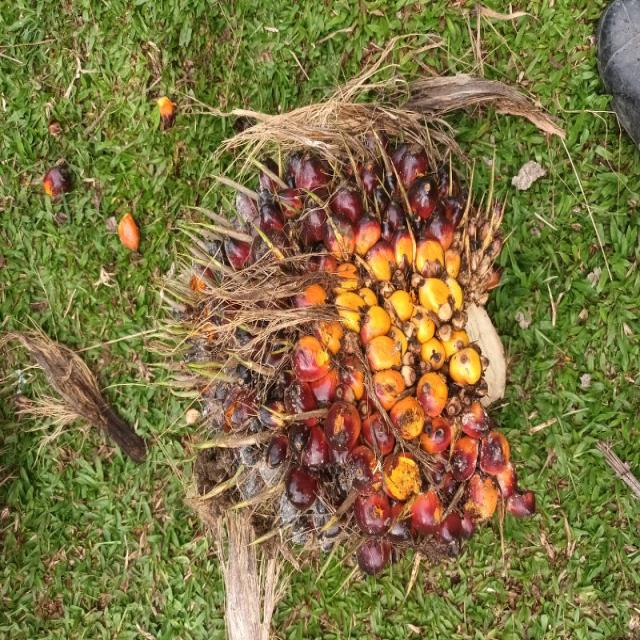fraksi 1: (33, 57, 460, 640)
